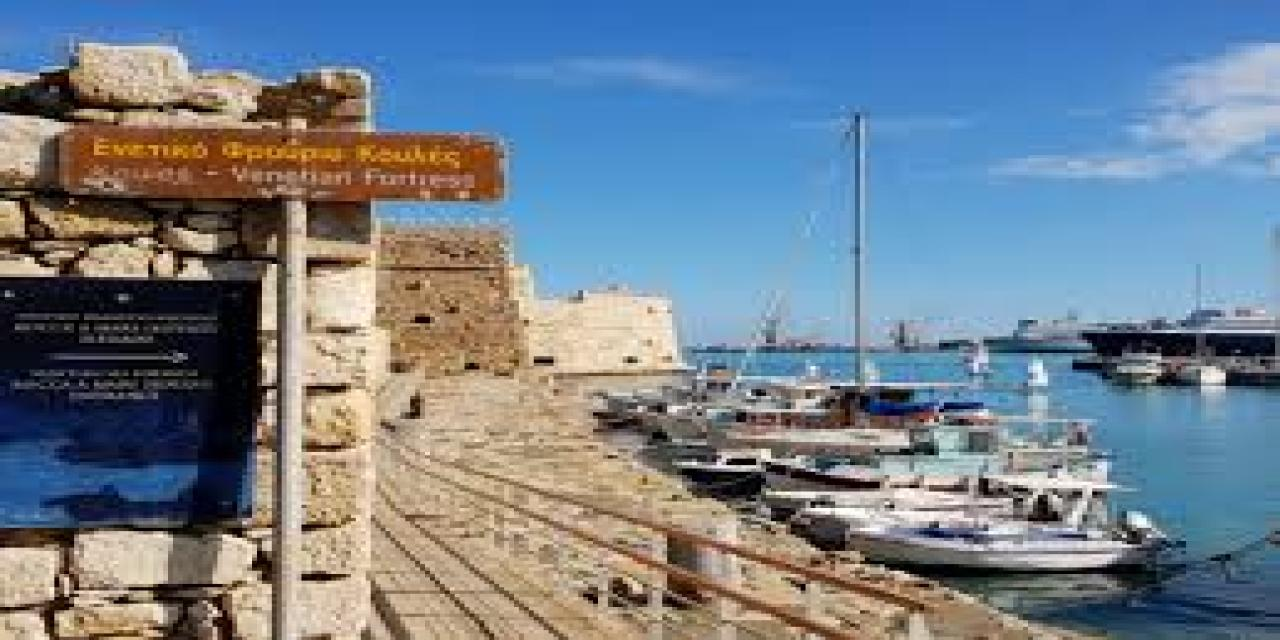Kules: (373, 220, 697, 378)
